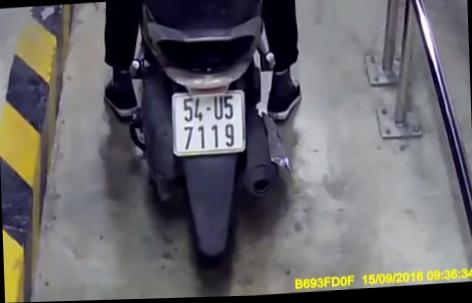LP: (170, 87, 248, 159)
